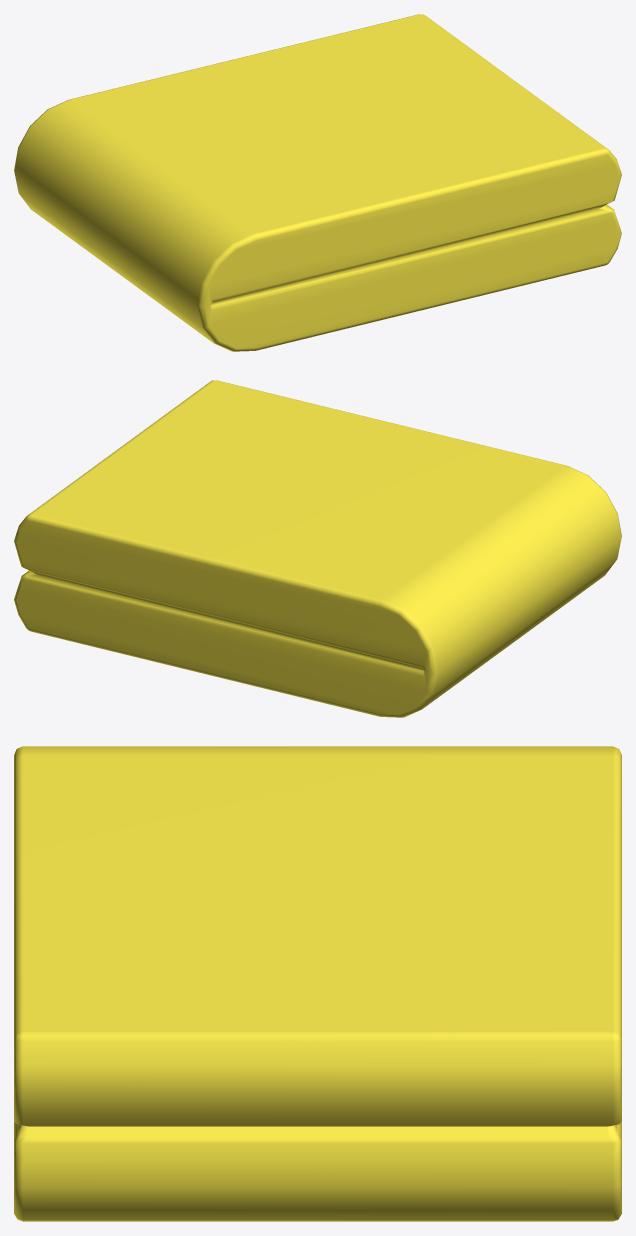
File: Public_19_Fabric_8.glb
3 renders of one model, top to bottom at view 1: azimuth 30°, elevation 25°; view 2: azimuth 150°, elevation 25°; view 3: azimuth 270°, elevation 25°, orthographic. The views are drawn at different scales.
Visible parts, largest first — view 1: Public_19_Fabric_8; view 2: Public_19_Fabric_8; view 3: Public_19_Fabric_8.
Part boxes in pixels (x1,y1,x2,y2): Public_19_Fabric_8: (14,14,621,351); Public_19_Fabric_8: (14,380,621,717); Public_19_Fabric_8: (14,746,621,1221).
Size of the model in its own units: 0.9385 by 0.2481 by 0.7228.
1 material, 1 textured.
